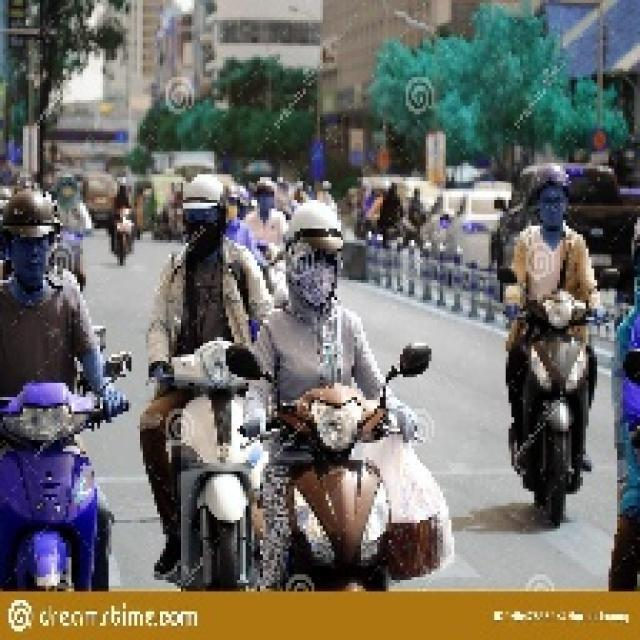bike: (259, 360, 412, 585), (149, 342, 274, 598), (489, 270, 597, 506), (4, 388, 114, 612)
